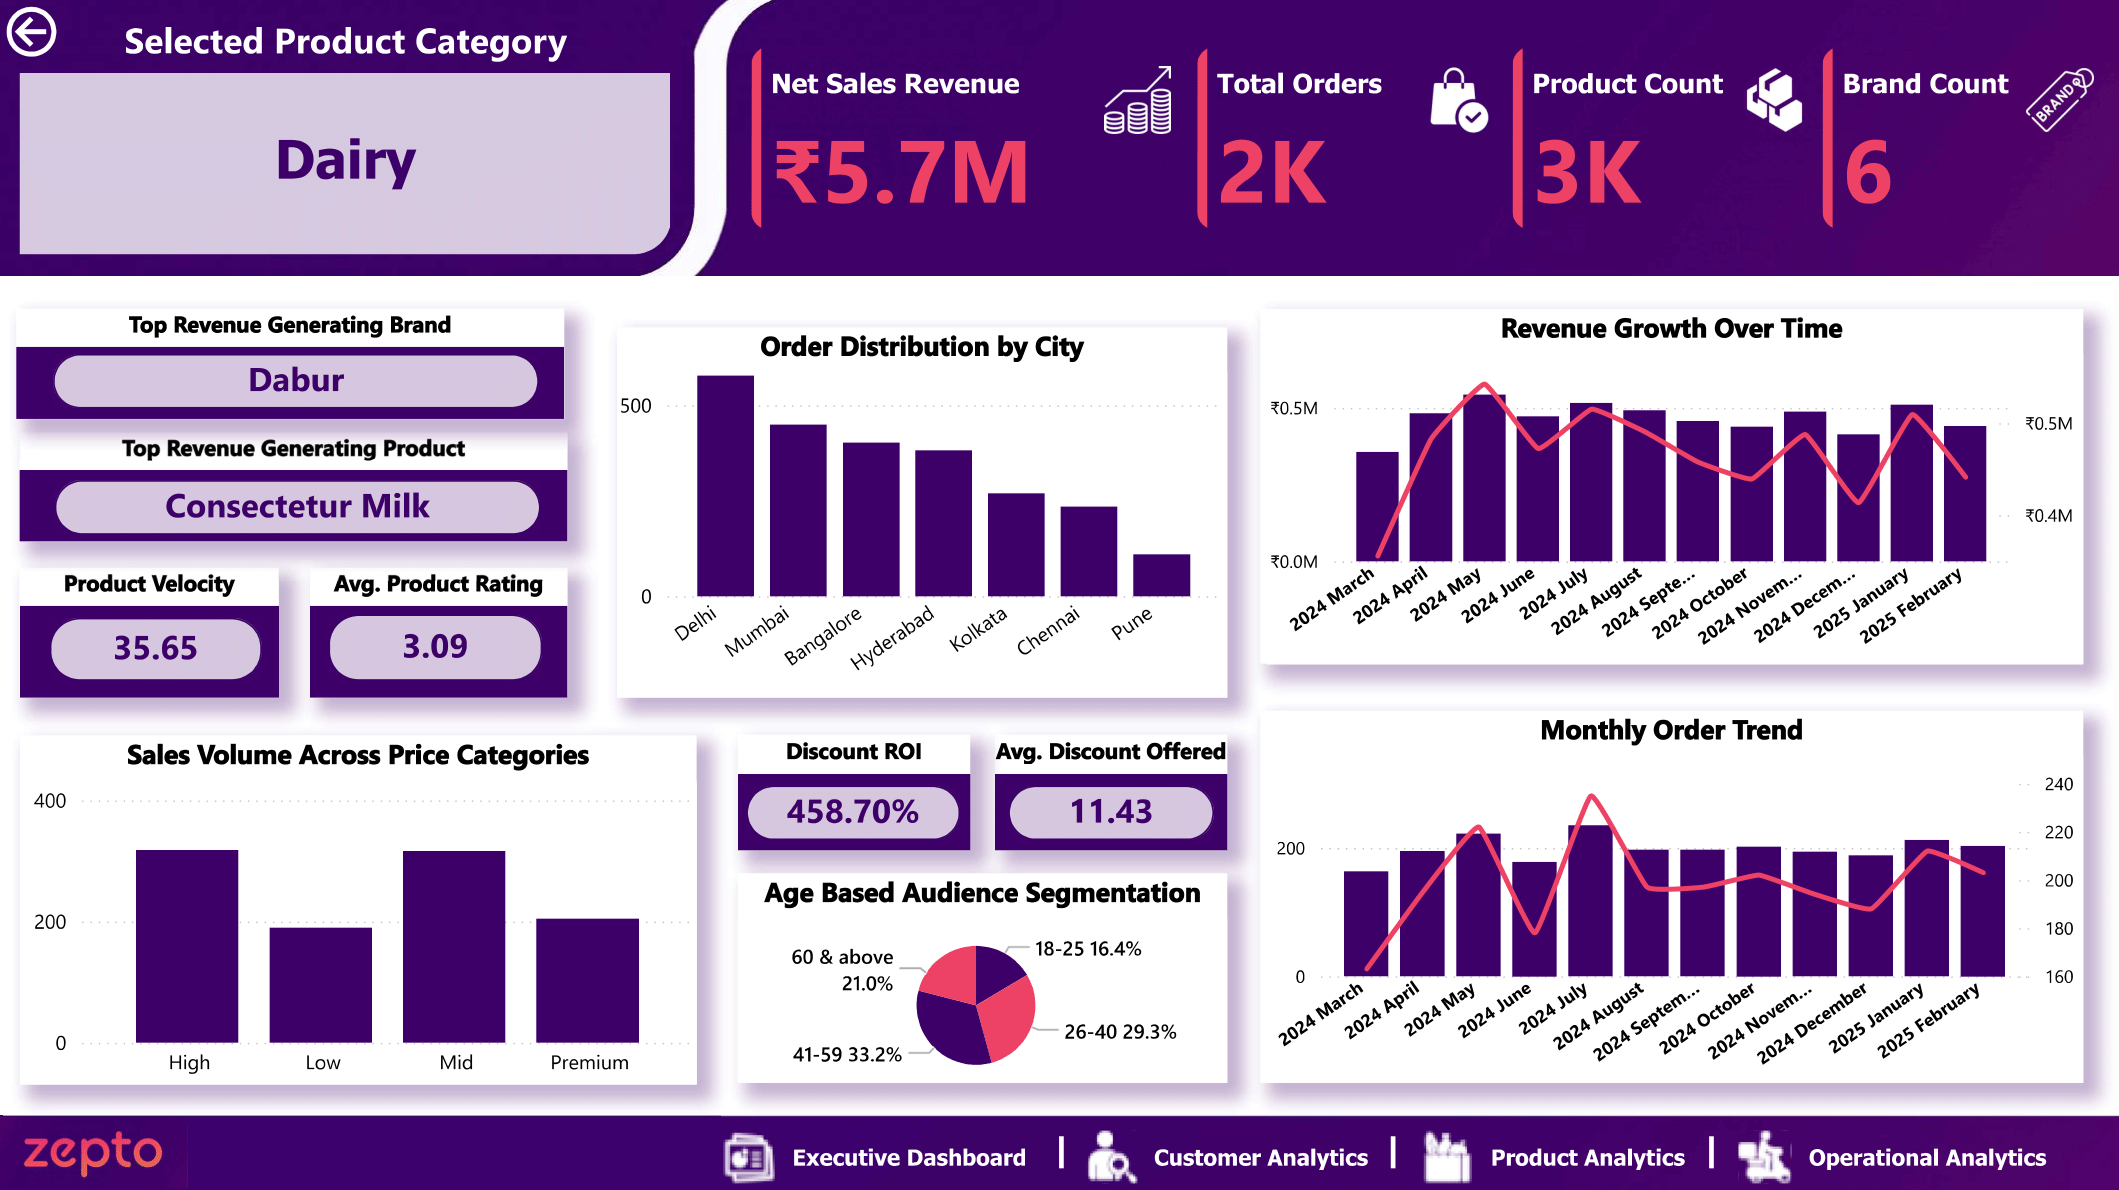

This screenshot's page, from the dashboard's own definition file:
{"tool":"powerbi","page":{"name":"Category Analytics: Drillthrough","canvas":[1280,720],"ordinal":4},"visuals":[{"type":"image","title":"Bottom Bar","box":[0,673.3,1280,46.7],"z":0},{"type":"image","title":"Zepto Logo","box":[0,672.9,114.3,44.3],"z":1000},{"type":"actionButton","title":"Customer Navigation","box":[652.2,677.6,177.6,40.3],"z":2000},{"type":"actionButton","title":"Exec Dashboard Navigation","box":[432.8,677.6,191,40.3],"z":3000},{"type":"actionButton","title":"Product Navigation","box":[853.7,677.6,167.2,40.3],"z":4000},{"type":"actionButton","title":"Operations Navigation","box":[1044.8,677.6,194,40.3],"z":5000},{"type":"textbox","box":[1020.9,673.1,23.9,44.8],"z":6000},{"type":"textbox","box":[613.4,673.1,55.2,46.3],"z":7000},{"type":"textbox","box":[817.9,673.1,46.3,46.3],"z":8000},{"type":"image","title":"Top Bar","box":[0,0,1280,167.1],"z":9000},{"type":"cardVisual","title":"Revenue Card","fields":{"Data":["Measures Table.Total Revenue (Net of Discounts)"]},"box":[448.8,23.8,275,120],"z":10000},{"type":"cardVisual","title":"Orders Card","fields":{"Data":["Measures Table.Total Orders"]},"box":[717.5,23.8,200,120],"z":11000},{"type":"cardVisual","title":"Product Count Card","fields":{"Data":["Measures Table.Product Count"]},"box":[907.5,23.8,200,120],"z":12000},{"type":"cardVisual","title":"Brand Count Card","fields":{"Data":["Measures Table.Brand Count"]},"box":[1095,23.8,185,120],"z":13000},{"type":"shape","title":"Selected Product Category","box":[12.9,10,392.9,144.3],"z":14000},{"type":"card","title":"Selected Category Card","fields":{"Values":["Min(Products.Category)"]},"box":[32.9,60,352.9,72.9],"z":15000},{"type":"shape","title":"Revenue Growth Over Time","box":[761.4,187.1,495.7,214.3],"z":16000},{"type":"shape","title":"Order Distribution by City","box":[372.5,197.5,368.8,223.8],"z":17000},{"type":"shape","title":"Monthly Order Trend","box":[761.4,428.6,495.7,224.3],"z":18000},{"type":"lineClusteredColumnComboChart","title":"Line Chart Revenue","fields":{"Y":["Measures Table.Net Sales Revenue"],"Y2":["Measures Table.Net Sales Revenue"],"Category":["Orders.Order_Date.Variation.Date Hierarchy.Year","Orders.Order_Date.Variation.Date Hierarchy.Month"]},"box":[761.4,214.3,495.7,187.1],"z":19000},{"type":"lineClusteredColumnComboChart","title":"Line Chart Order","fields":{"Category":["Orders.Order_Date.Variation.Date Hierarchy.Year","Orders.Order_Date.Variation.Date Hierarchy.Month"],"Y":["Measures Table.Total Orders"],"Y2":["Measures Table.Total Orders"]},"box":[761.4,458.6,495.7,194.3],"z":20000},{"type":"shape","title":"Sales Volume Across Price Categories","box":[12.5,443.8,408.8,210],"z":21000},{"type":"clusteredColumnChart","fields":{"Category":["Customers.State"],"Y":["Measures Table.Total Orders"]},"box":[373,213.5,368.1,209.8],"z":22000},{"type":"shape","title":"Discount ROI","box":[445.7,444.3,140,68.6],"z":23000},{"type":"shape","title":"Avg. Discount Offered","box":[601.4,444.3,140,68.6],"z":24000},{"type":"card","title":"Discount ROI Card","fields":{"Values":["Measures Table.Discount ROI"]},"box":[451,474,129,33],"z":25000},{"type":"card","title":"Avg. Discount Card","fields":{"Values":["Measures Table.Average Discount Offered"]},"box":[609,474,124,33],"z":26000},{"type":"shape","title":"Age Based Audience Segmentation","box":[445.7,527.1,295.7,125.7],"z":27000},{"type":"pieChart","title":"Pie Chart Age Based","fields":{"Y":["Measures Table.Active Users"],"Series":["Customers.Age Group"]},"box":[448.6,555.7,281.4,97.1],"z":28000},{"type":"shape","title":"Product Velocity","box":[12.5,342.5,156.2,78.8],"z":29000},{"type":"shape","title":"Avg. Product Rating","box":[187.5,342.5,155,78.8],"z":30000},{"type":"shape","title":"Top Revenue Generating Product","box":[12.9,261.4,330,65.7],"z":31000},{"type":"shape","title":"Top Revenue Generating Brand","box":[11.4,187.1,330,65.7],"z":32000},{"type":"card","title":"Top Revenue Brand Card","fields":{"Values":["Min(Products.Brand)"]},"box":[32.9,214.3,292.9,32.9],"z":33000},{"type":"card","title":"Top Revenue Product Card","fields":{"Values":["Min(Products.Product_Name)"]},"box":[34.3,290,292.9,32.9],"z":34000},{"type":"card","title":"Product Velocity Card","fields":{"Values":["Measures Table.Product Velocity"]},"box":[31.2,372.5,127.5,38.8],"z":35000},{"type":"card","title":"Avg. Product Rating Card","fields":{"Values":["Measures Table.Average Product Rating"]},"box":[198.8,371.2,128.8,40],"z":36000},{"type":"clusteredColumnChart","fields":{"Category":["Products.Price Categorisation"],"Y":["CountNonNull(Products.Total Units Sold)"]},"box":[18.6,474.3,402.9,180],"z":37000},{"type":"actionButton","title":"Back Button","box":[0,0,100,40],"z":38000}]}

Visuals, with their boxes in screenshot pixels (x1, y1, x2, y2), scaled from the page's 1280x720 canvas onto the 2119x1190 screenshot:
"Bottom Bar" image: [0, 1113, 2118, 1189]
"Zepto Logo" image: [0, 1112, 189, 1185]
"Customer Navigation" actionButton: [1080, 1120, 1374, 1187]
"Exec Dashboard Navigation" actionButton: [716, 1120, 1033, 1187]
"Product Navigation" actionButton: [1413, 1120, 1690, 1187]
"Operations Navigation" actionButton: [1730, 1120, 2051, 1187]
textbox: [1690, 1112, 1730, 1187]
textbox: [1015, 1112, 1107, 1189]
textbox: [1354, 1112, 1431, 1189]
"Top Bar" image: [0, 0, 2118, 276]
"Revenue Card" cardVisual: [743, 39, 1198, 238]
"Orders Card" cardVisual: [1188, 39, 1519, 238]
"Product Count Card" cardVisual: [1502, 39, 1833, 238]
"Brand Count Card" cardVisual: [1813, 39, 2118, 238]
"Selected Product Category" shape: [21, 17, 672, 255]
"Selected Category Card" card: [54, 99, 639, 220]
"Revenue Growth Over Time" shape: [1260, 309, 2081, 663]
"Order Distribution by City" shape: [617, 326, 1227, 696]
"Monthly Order Trend" shape: [1260, 708, 2081, 1079]
"Line Chart Revenue" lineClusteredColumnComboChart: [1260, 354, 2081, 663]
"Line Chart Order" lineClusteredColumnComboChart: [1260, 758, 2081, 1079]
"Sales Volume Across Price Categories" shape: [21, 734, 697, 1081]
clusteredColumnChart - Customers.State x Measures Table.Total Orders: [617, 353, 1227, 700]
"Discount ROI" shape: [738, 734, 970, 848]
"Avg. Discount Offered" shape: [996, 734, 1227, 848]
"Discount ROI Card" card: [747, 783, 960, 838]
"Avg. Discount Card" card: [1008, 783, 1213, 838]
"Age Based Audience Segmentation" shape: [738, 871, 1227, 1079]
"Pie Chart Age Based" pieChart: [743, 918, 1208, 1079]
"Product Velocity" shape: [21, 566, 279, 696]
"Avg. Product Rating" shape: [310, 566, 567, 696]
"Top Revenue Generating Product" shape: [21, 432, 568, 541]
"Top Revenue Generating Brand" shape: [19, 309, 565, 418]
"Top Revenue Brand Card" card: [54, 354, 539, 409]
"Top Revenue Product Card" card: [57, 479, 542, 534]
"Product Velocity Card" card: [52, 616, 263, 680]
"Avg. Product Rating Card" card: [329, 614, 542, 680]
clusteredColumnChart - Products.Price Categorisation x CountNonNull(Products.Total Units Sold): [31, 784, 698, 1081]
"Back Button" actionButton: [0, 0, 166, 66]
